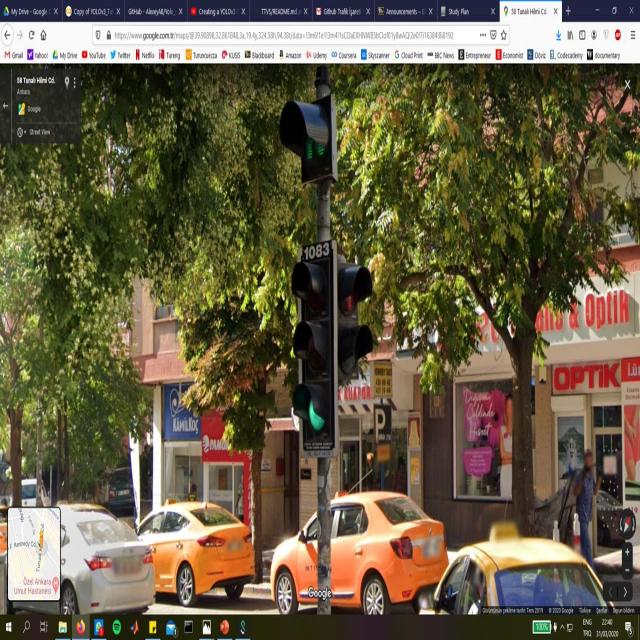yesil: (297, 255, 331, 441)
